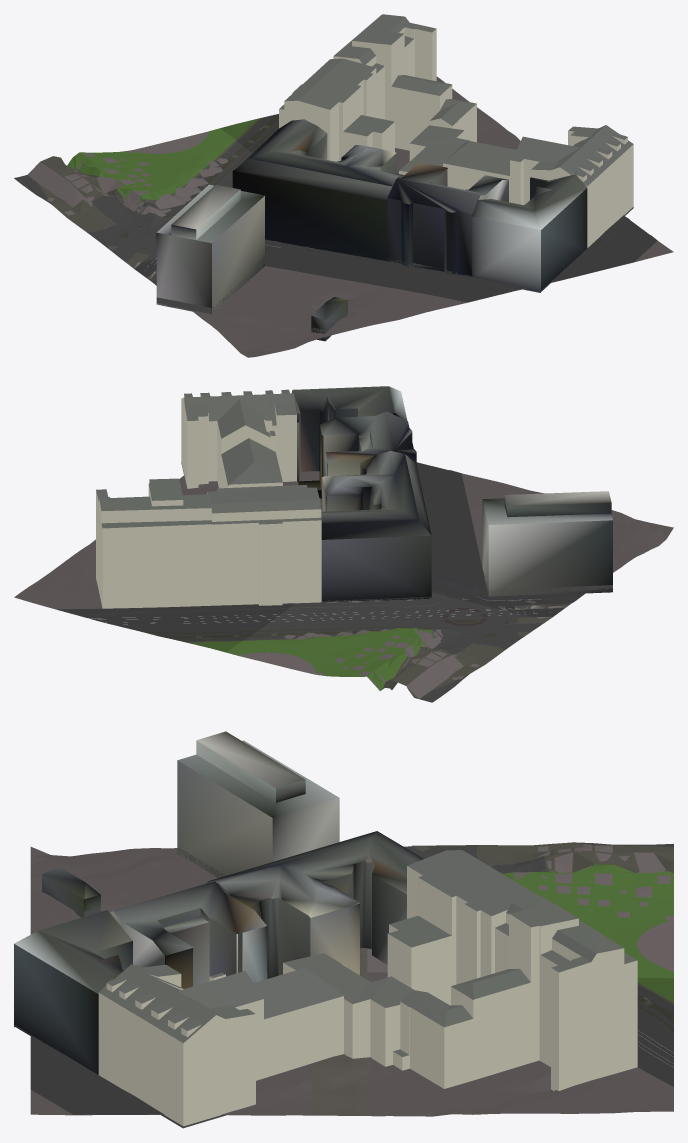
The picture shows the model from 3 angles, top to bottom: view 1: azimuth 30°, elevation 25°; view 2: azimuth 150°, elevation 25°; view 3: azimuth 270°, elevation 25°; orthographic projection. The views are drawn at different scales.
Visible parts, largest first — view 1: c_m11_p03, append:c_m11_p03; view 2: c_m11_p03, append:c_m11_p03; view 3: c_m11_p03, append:c_m11_p03.
Part boxes in pixels (x1,y1,x2,y2): c_m11_p03: (129, 14, 673, 357); append:c_m11_p03: (14, 128, 251, 264); c_m11_p03: (14, 386, 673, 652); append:c_m11_p03: (227, 592, 546, 702); c_m11_p03: (14, 731, 673, 1128); append:c_m11_p03: (367, 842, 673, 978).
Bounding box in the file's own units: 139 × 32.44 × 131.
